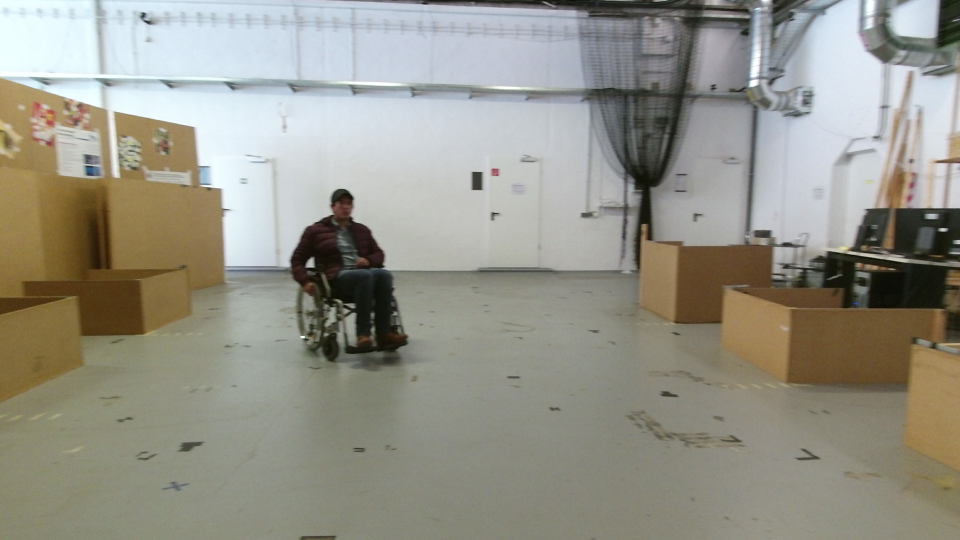wheelchair: (297, 181, 425, 366)
